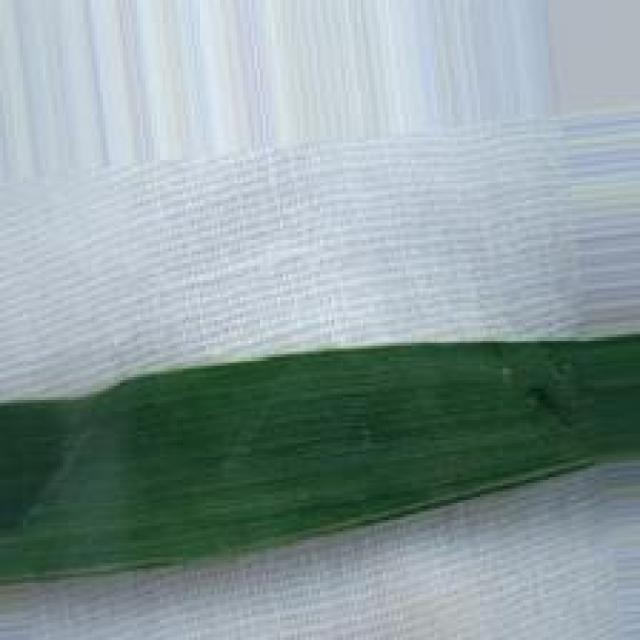Healthy: (0, 332, 640, 591)
